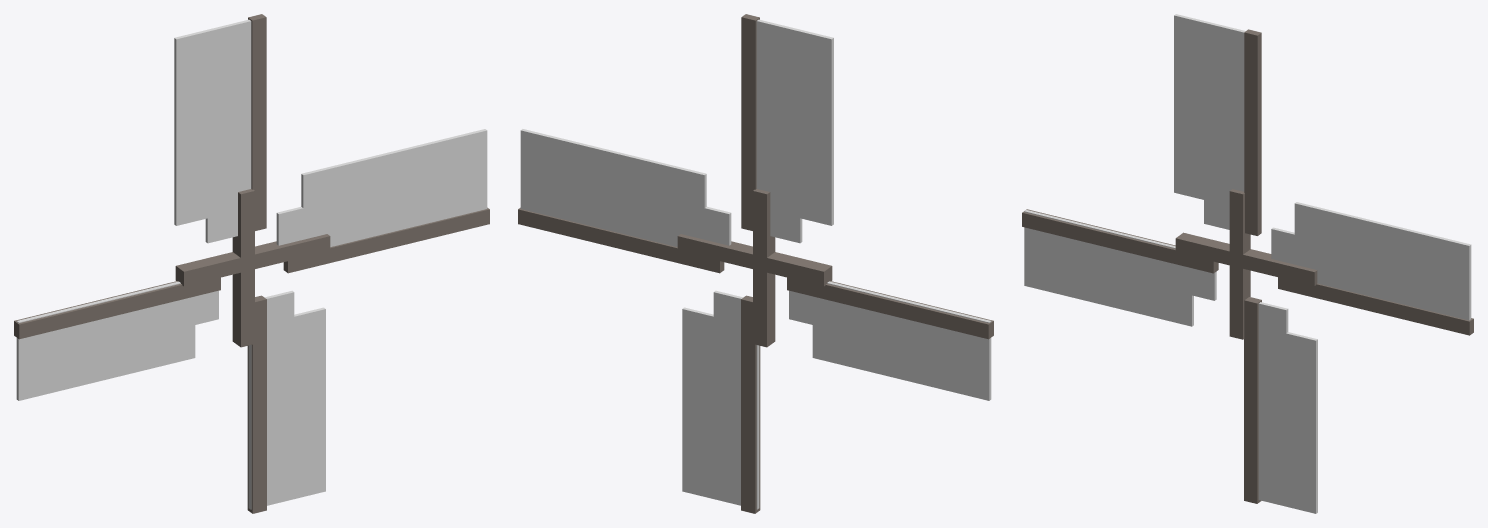
File: Mill_mill.fbx
3 views of the same model, side by side, from view 1: azimuth 30°, elevation 25°; view 2: azimuth 150°, elevation 25°; view 3: azimuth 330°, elevation 25° (orthographic). The views are drawn at different scales.
Visible parts, largest first — view 1: Mill_mill; view 2: Mill_mill; view 3: Mill_mill.
Boxes of the visible parts, x1=… form: Mill_mill: x1=14, y1=14, x2=489, y2=513; Mill_mill: x1=518, y1=14, x2=993, y2=513; Mill_mill: x1=1022, y1=14, x2=1473, y2=513.
Size of the model in its own units: 968 by 968 by 28.95.
